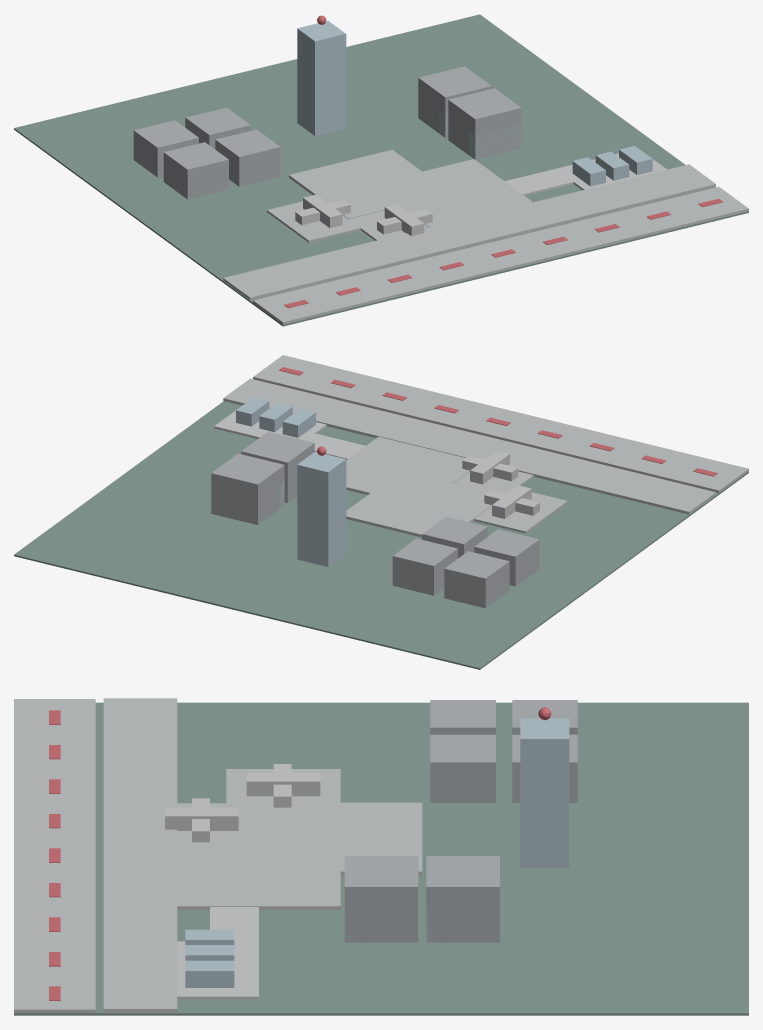
Rendered from stage_14.glb.
3 views of the same model, one above another, from view 1: azimuth 30°, elevation 25°; view 2: azimuth 150°, elevation 25°; view 3: azimuth 270°, elevation 25° (orthographic). The views are drawn at different scales.
Parts seen in each view (by area): view 1: geometry_0; view 2: geometry_0; view 3: geometry_0.
Part boxes in pixels (x1,y1,x2,y2): geometry_0: (14,14,748,326); geometry_0: (14,355,748,669); geometry_0: (14,698,748,1015).
Bounding box in the file's own units: 9 × 2.06 × 9.
